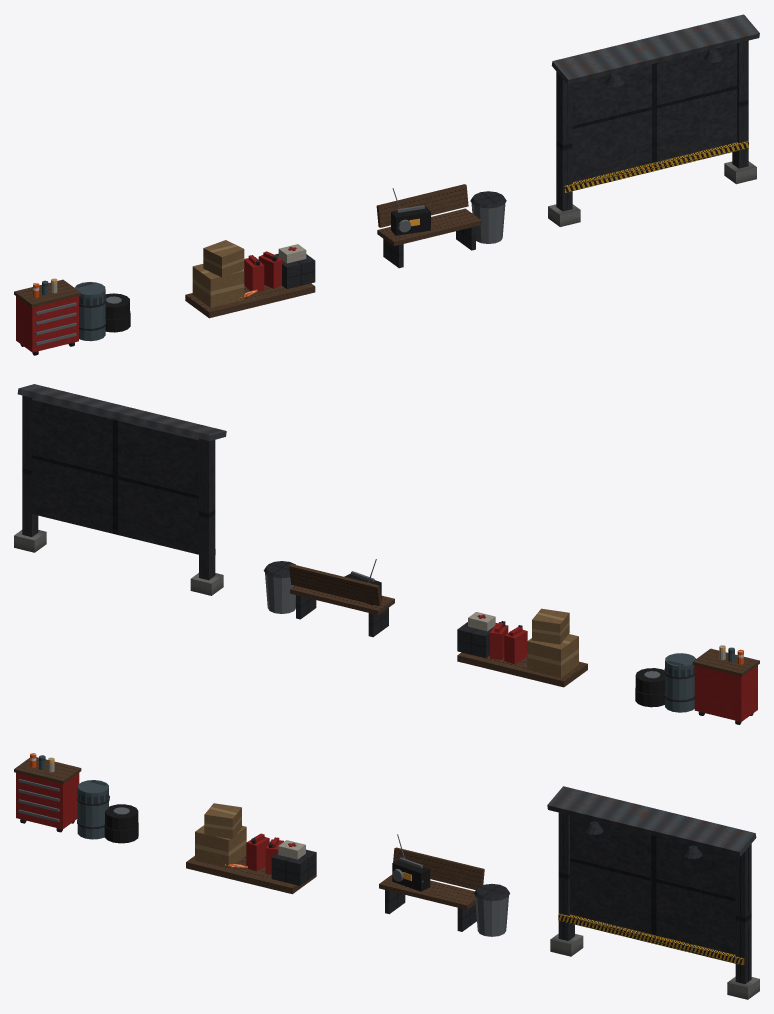
File: Lobby_Pack2_ShopProps.glb
3 views of the same model, one above another, from view 1: azimuth 30°, elevation 25°; view 2: azimuth 150°, elevation 25°; view 3: azimuth 330°, elevation 25° (orthographic).
Visible parts, largest first — view 1: Lobby_Prop_DepotBoardFrame, Lobby_Prop_SupplyCounter, Lobby_Prop_PaintStation, Lobby_Prop_EmoteBoomboxBench; view 2: Lobby_Prop_DepotBoardFrame, Lobby_Prop_PaintStation, Lobby_Prop_SupplyCounter, Lobby_Prop_EmoteBoomboxBench; view 3: Lobby_Prop_DepotBoardFrame, Lobby_Prop_PaintStation, Lobby_Prop_SupplyCounter, Lobby_Prop_EmoteBoomboxBench.
Boxes of the visible parts, x1,y1,x2,y2 form: Lobby_Prop_DepotBoardFrame: (548,14,759,226); Lobby_Prop_SupplyCounter: (185,240,315,318); Lobby_Prop_PaintStation: (14,278,130,355); Lobby_Prop_EmoteBoomboxBench: (376,184,506,268); Lobby_Prop_DepotBoardFrame: (14,384,226,595); Lobby_Prop_PaintStation: (635,645,759,724); Lobby_Prop_SupplyCounter: (457,608,587,687); Lobby_Prop_EmoteBoomboxBench: (263,559,394,637); Lobby_Prop_DepotBoardFrame: (547,786,759,999); Lobby_Prop_PaintStation: (14,753,138,843); Lobby_Prop_SupplyCounter: (186,803,316,894); Lobby_Prop_EmoteBoomboxBench: (379,834,509,936).
Bounding box in the file's own units: 15.74 × 3.26 × 1.08.
Materials: 1 (1 with a texture image).
